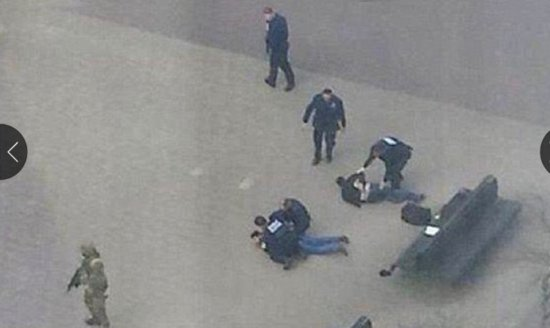fall: (243, 216, 353, 272)
